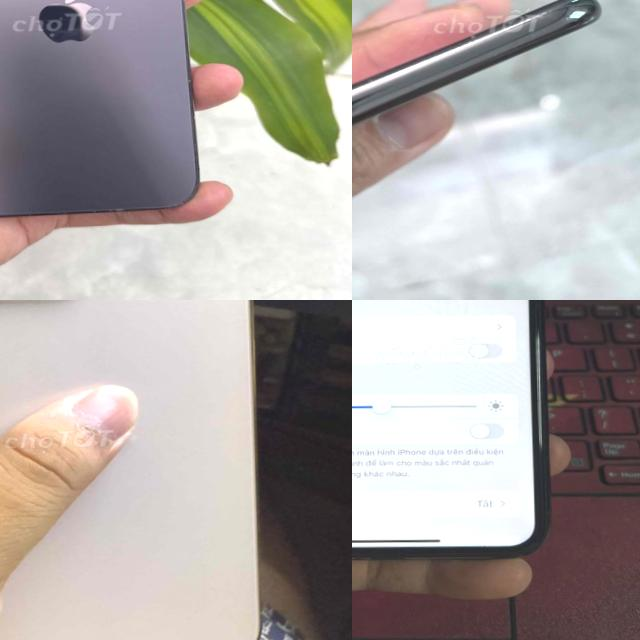gen_11: (352, 300, 551, 561)
gen_12_13: (0, 300, 268, 640)
gen_14: (0, 0, 209, 220)
gen_x_xs: (352, 0, 626, 170)
